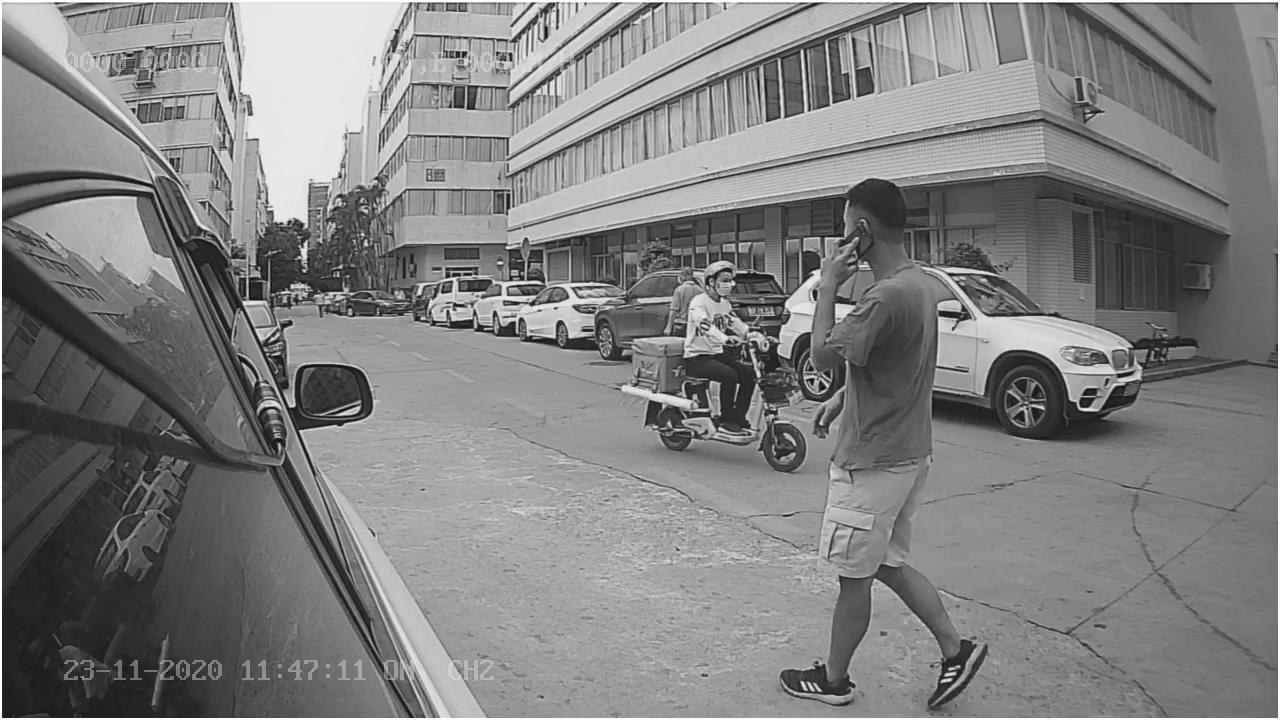person: (779, 162, 990, 708), (683, 240, 764, 343)
